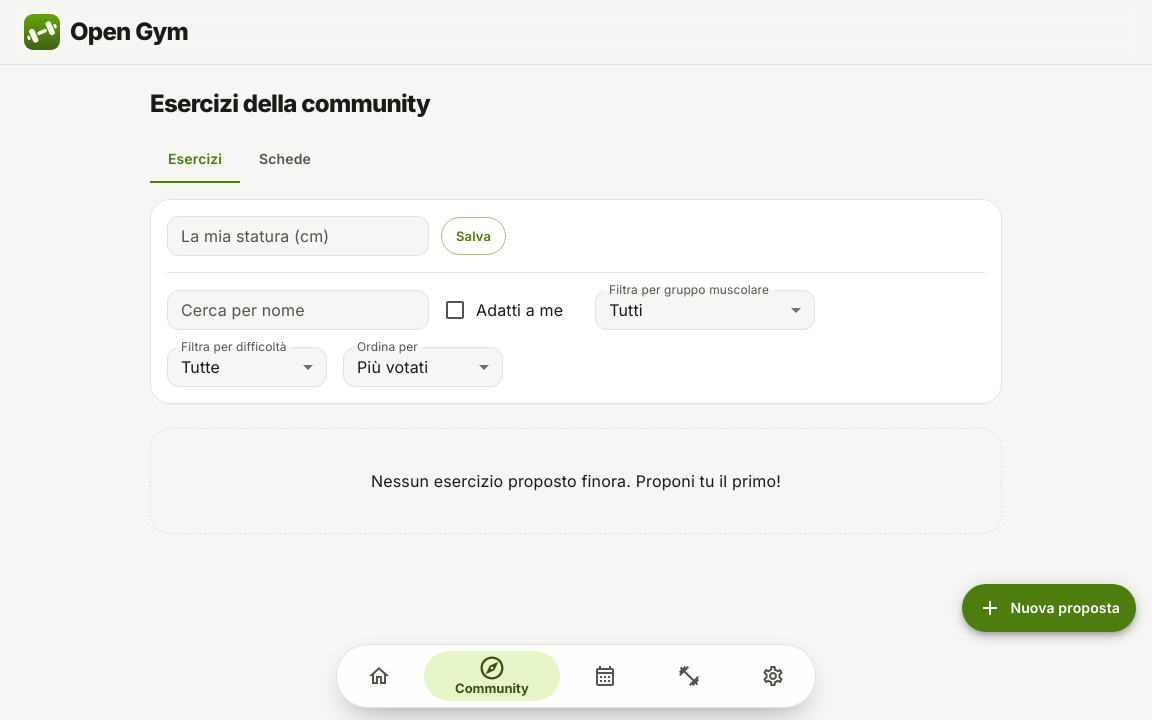
it: proposta di un esercizio › il volto offuscato non è più obbligatorio: resta solo la dicitura (M12)
Click the button "Nuova proposta".
click(1049, 608)  # box [962,584,1136,632]
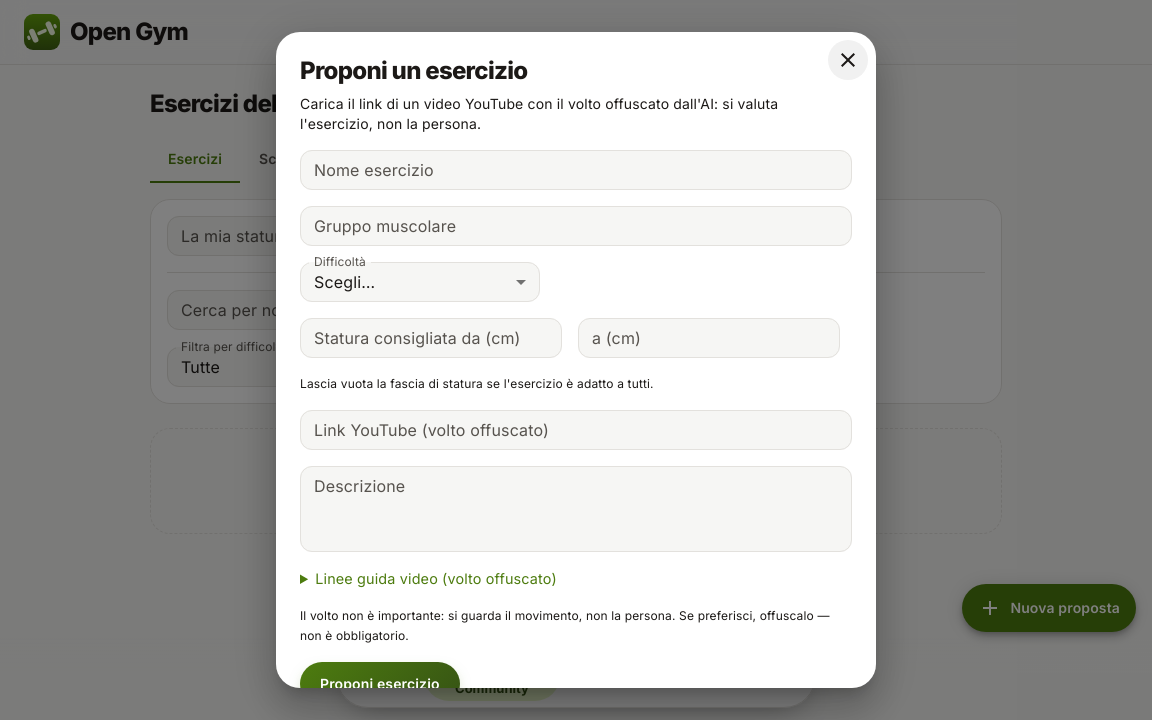
Expected: the field labelled "Nome esercizio" is shown, [300,150,852,190]
Expected: the text "Il volto non è importante" is shown, [300,608,830,643]
